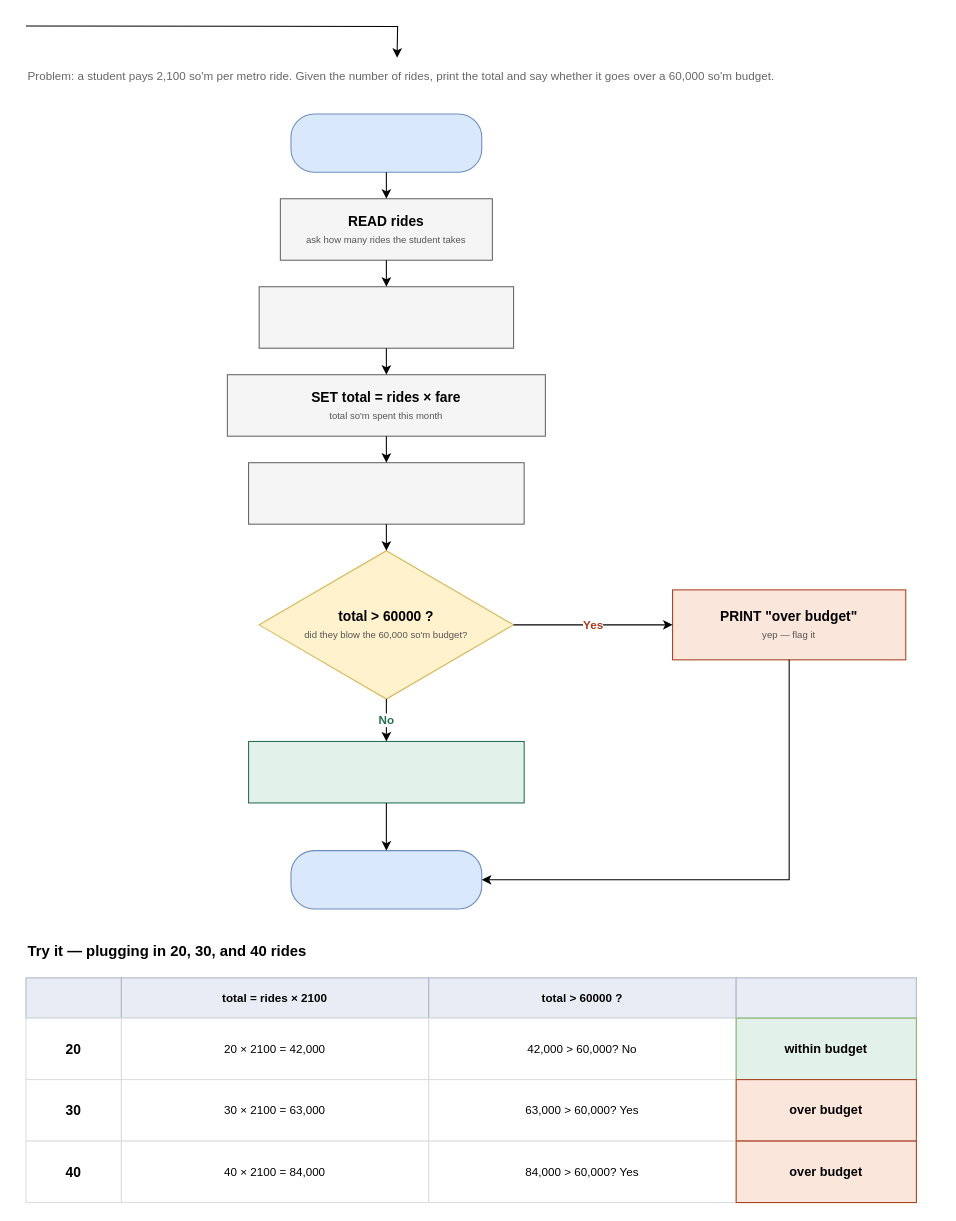
The diagram is 956 pixels wide and 1221 high, and some of its shapes have lost their labels. The shapes that lost their labels are listed below. From the top down, each one's box as (x1, y1, x2, y2) in pixels, then its label:
(290, 113, 482, 172): Start where the calc begins
(258, 286, 514, 348): SET fare = 2100 so'm charged per ride
(248, 462, 524, 524): PRINT total show the student what they'd spend
(248, 740, 524, 803): PRINT "within budget" nope — they're fine
(290, 850, 482, 909): End done
(25, 977, 121, 1018): Rides
(735, 977, 916, 1018): Result
